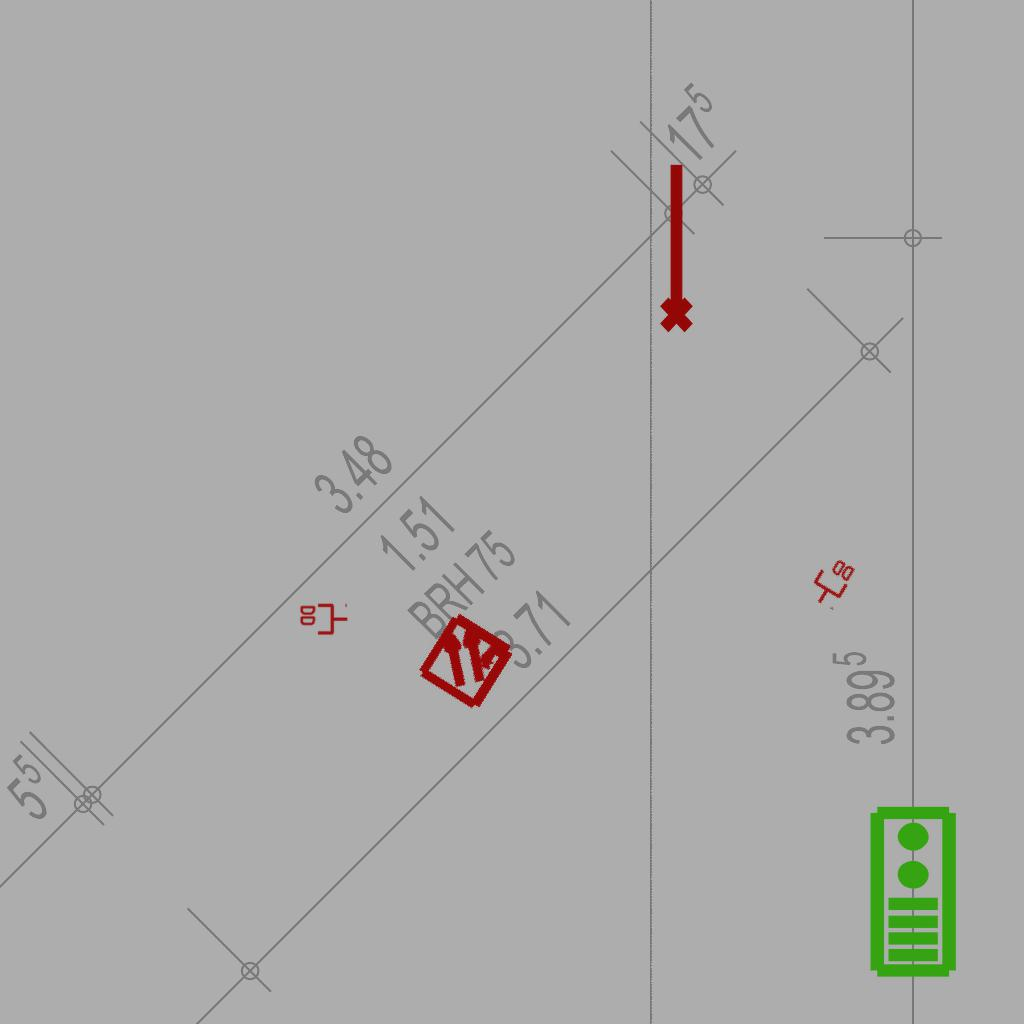ASR_Ansaugoeffnung: (651, 159, 697, 335)
Datenanschluss_zweifach: (803, 550, 859, 613), (298, 603, 349, 637)
Gegensprechanlage_mit_Video: (864, 803, 959, 979)
OT_Multisensormelder_(Kombination_RMO_WMD): (389, 581, 546, 738)
